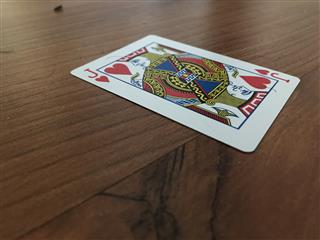JackOfHearts: (69, 33, 300, 152)
